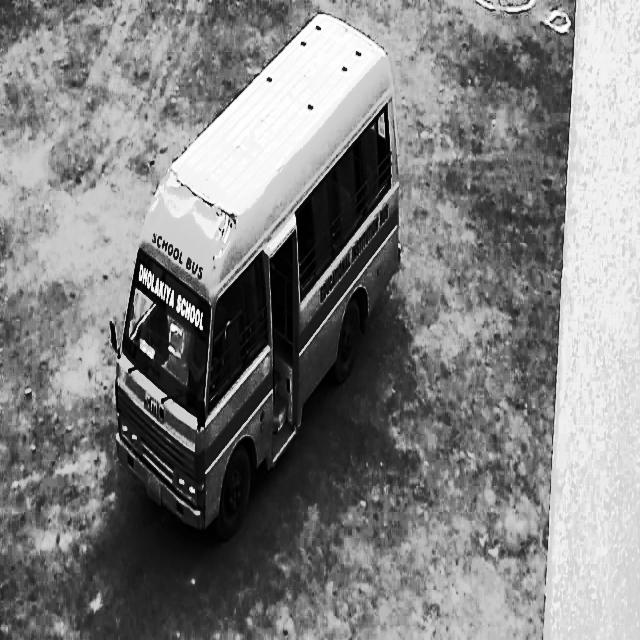Bus: (101, 14, 415, 551)
